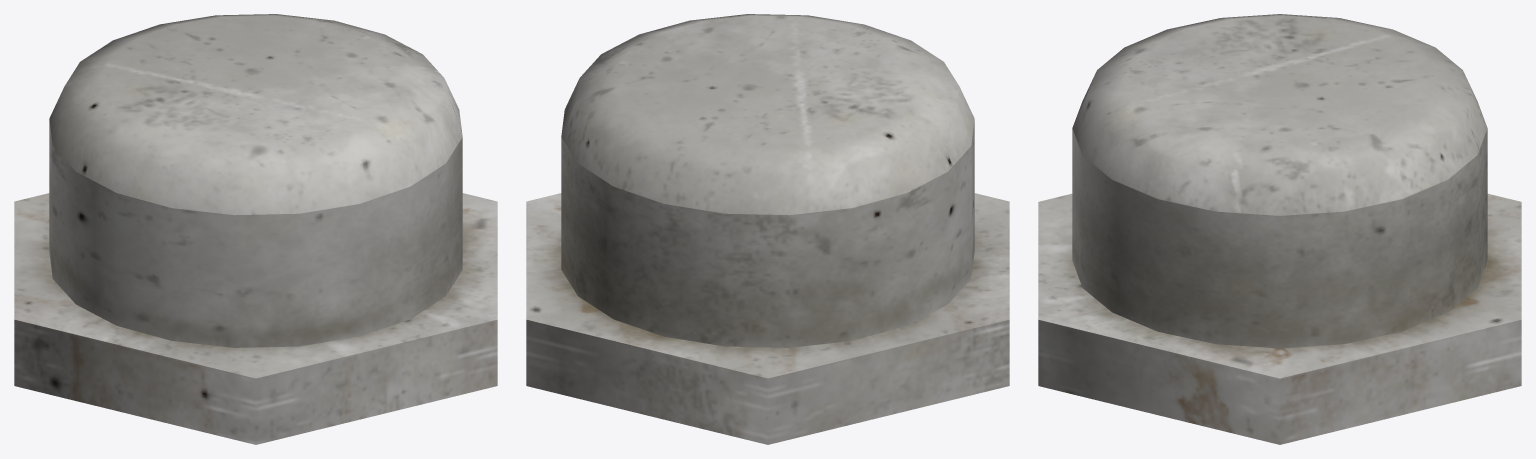
The model's file is PlasticPipe_14a_snaps019.fbx.
The picture shows the model from 3 angles, left to right: view 1: azimuth 30°, elevation 25°; view 2: azimuth 150°, elevation 25°; view 3: azimuth 270°, elevation 25°; orthographic projection.
Parts seen in each view (by area): view 1: PlasticPipe_14a_snaps019_LOD0; view 2: PlasticPipe_14a_snaps019_LOD0; view 3: PlasticPipe_14a_snaps019_LOD0.
Boxes of the visible parts, x1,y1,x2,y2 form: PlasticPipe_14a_snaps019_LOD0: (14, 14, 497, 444); PlasticPipe_14a_snaps019_LOD0: (526, 14, 1009, 444); PlasticPipe_14a_snaps019_LOD0: (1038, 14, 1521, 444).
Size of what is drawn, in the model's own units: 35.23 by 17.1 by 30.51.
